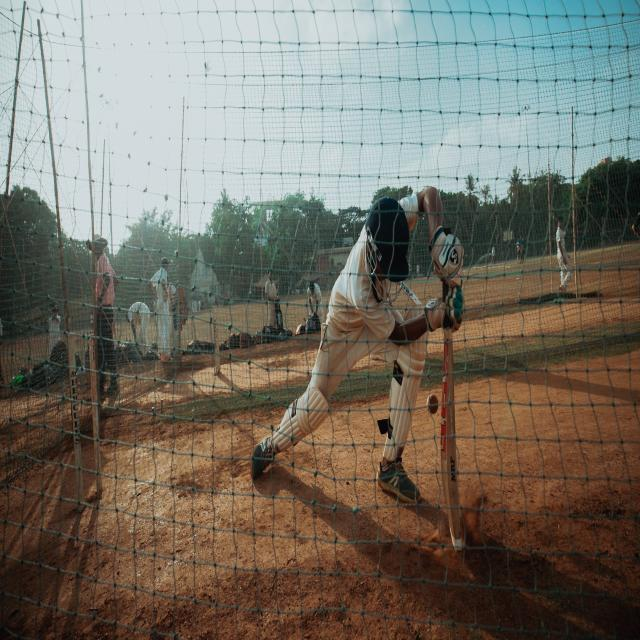stumps: (65, 325, 105, 512)
